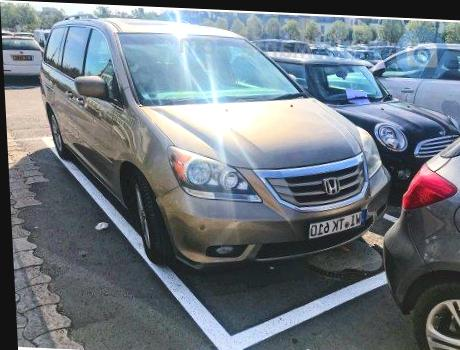License_Plate: (304, 204, 370, 245)
